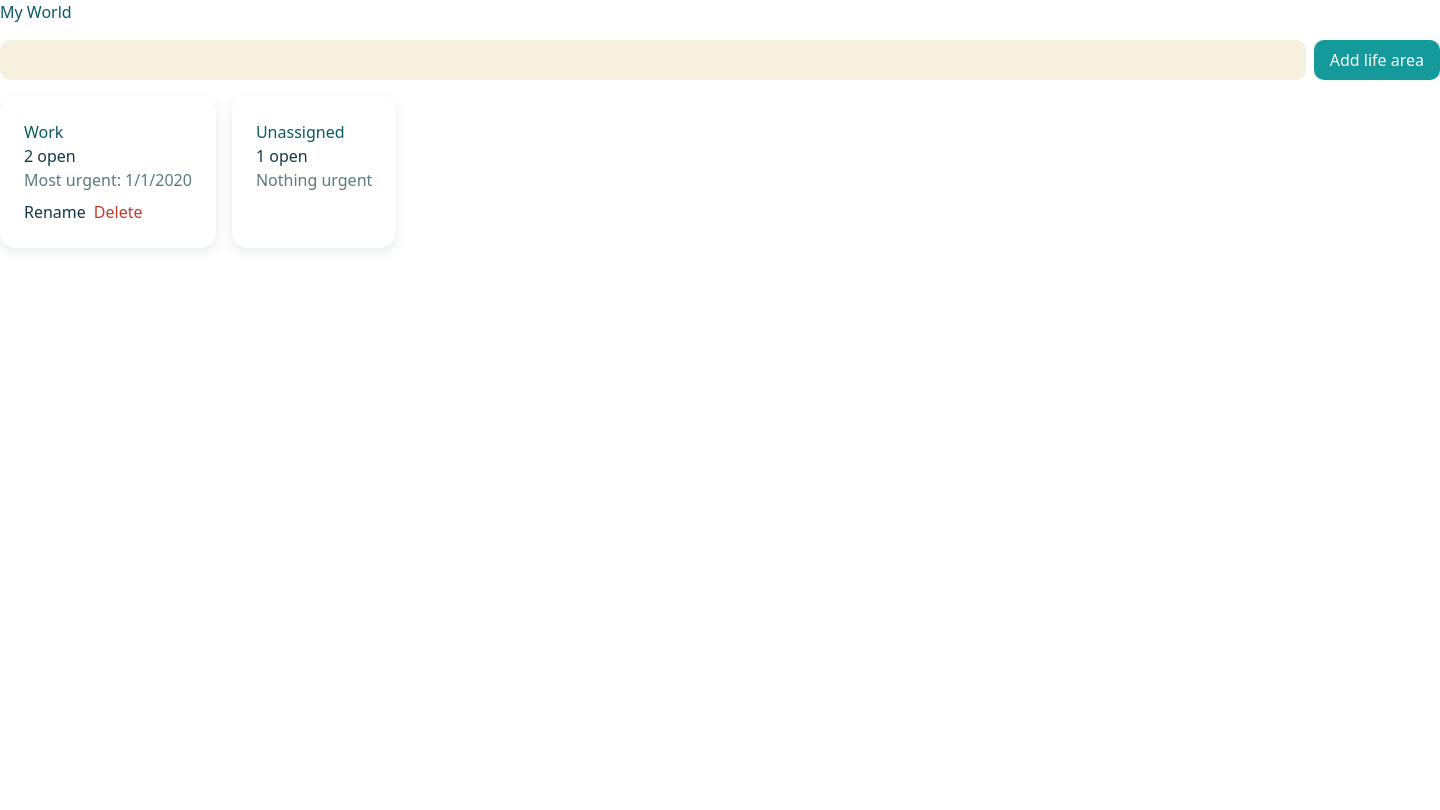
Test: MyWorldPage › shows the blocked-deletion message with the linked-item counts when delete is confirmed
This screenshot has width=1440, height=810.
Expected: the heading "Work" is shown, [24, 121, 63, 143]
What coordinates should you click on to do the following:
click the button named "Delete \"Work\""
I would click on:
 (118, 212)
Its box is [94, 200, 142, 224].
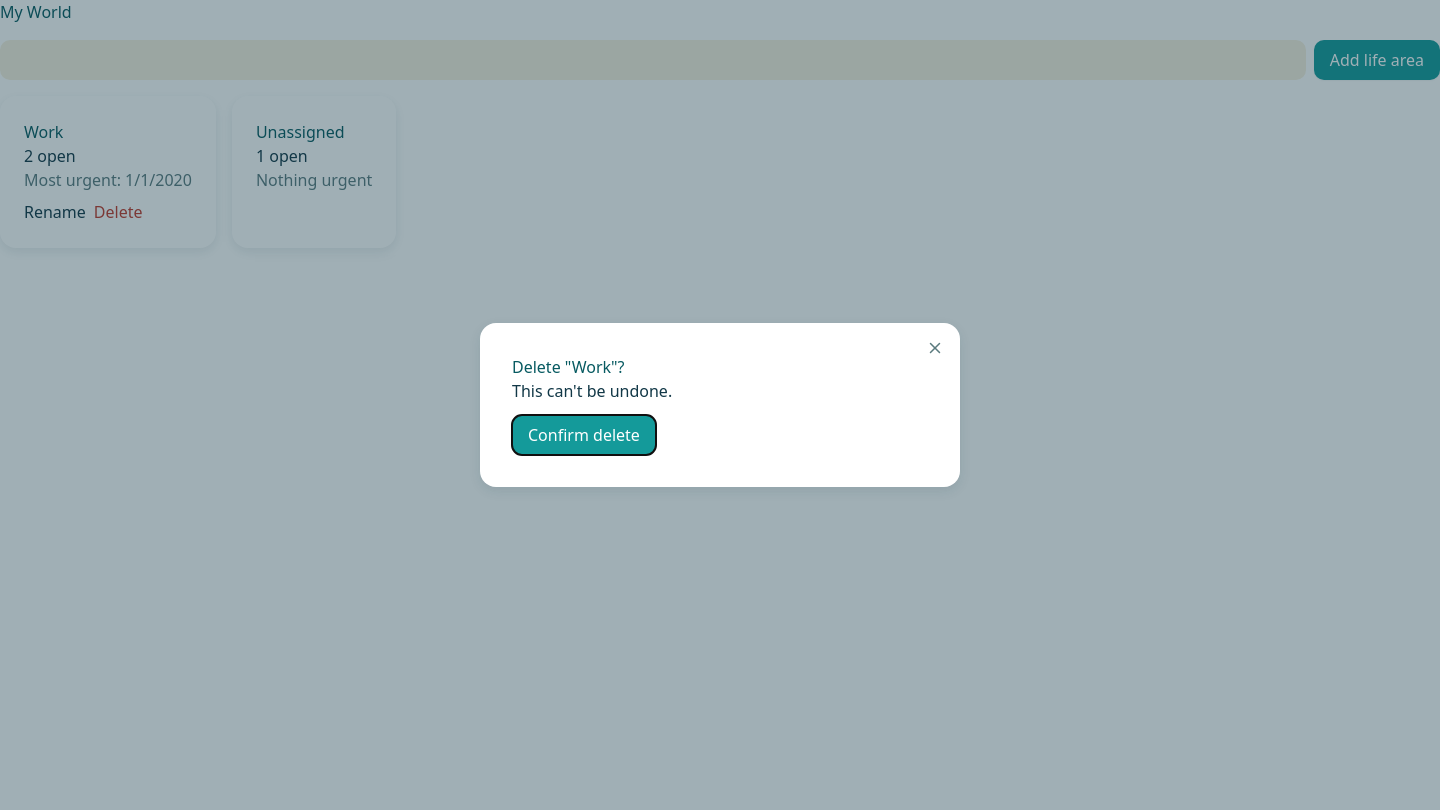
What coordinates should you click on to do the following:
click the button "Confirm delete"
I would click on:
 (584, 435)
Its box is [512, 415, 656, 455].
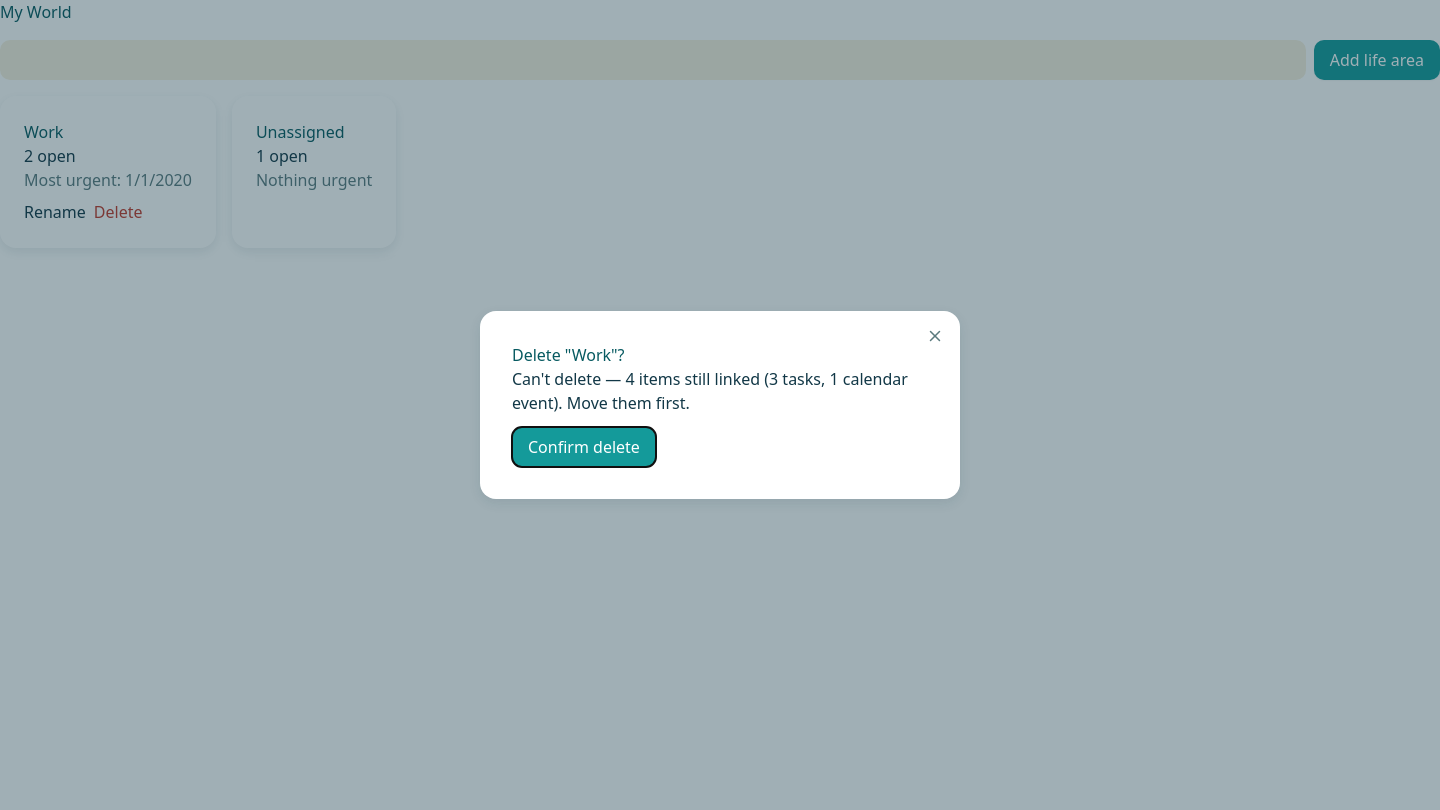
Now the text "1 calendar event" is shown, box [512, 367, 928, 415]
